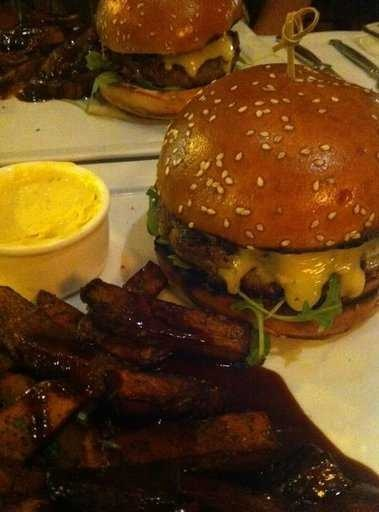hamburger: (149, 51, 375, 325)
